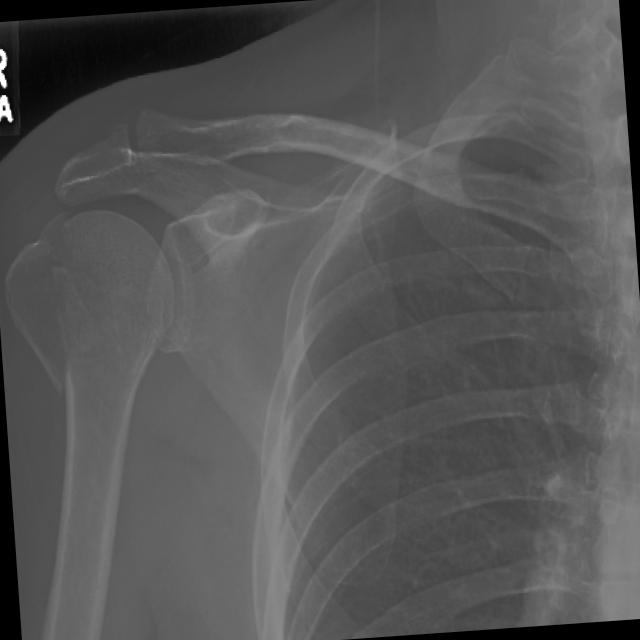shoulder fracture: (0, 223, 128, 420), (91, 100, 177, 185)
